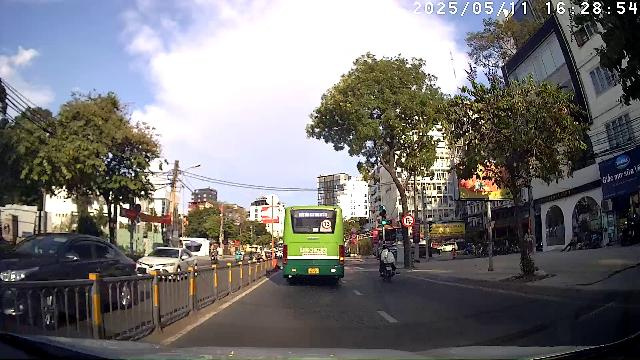124b-cam-oto-quay-dau-xe: (402, 214, 415, 228)
